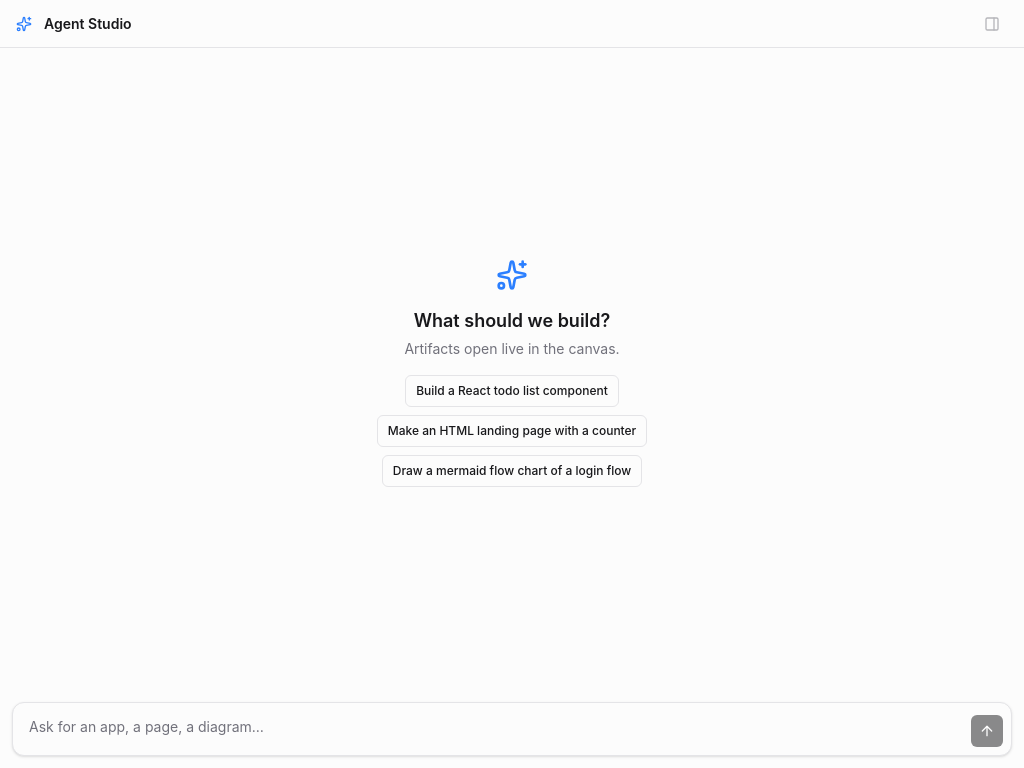
Scenario: Studio — end to end › marks an artifact whose deltas were lost as failed in chat and canvas
The width and height of the screenshot is (1024, 768).
Type "html page" into the text box named "Message" at {"x": 492, "y": 729}, box [21, 711, 963, 747]
Then press Enter
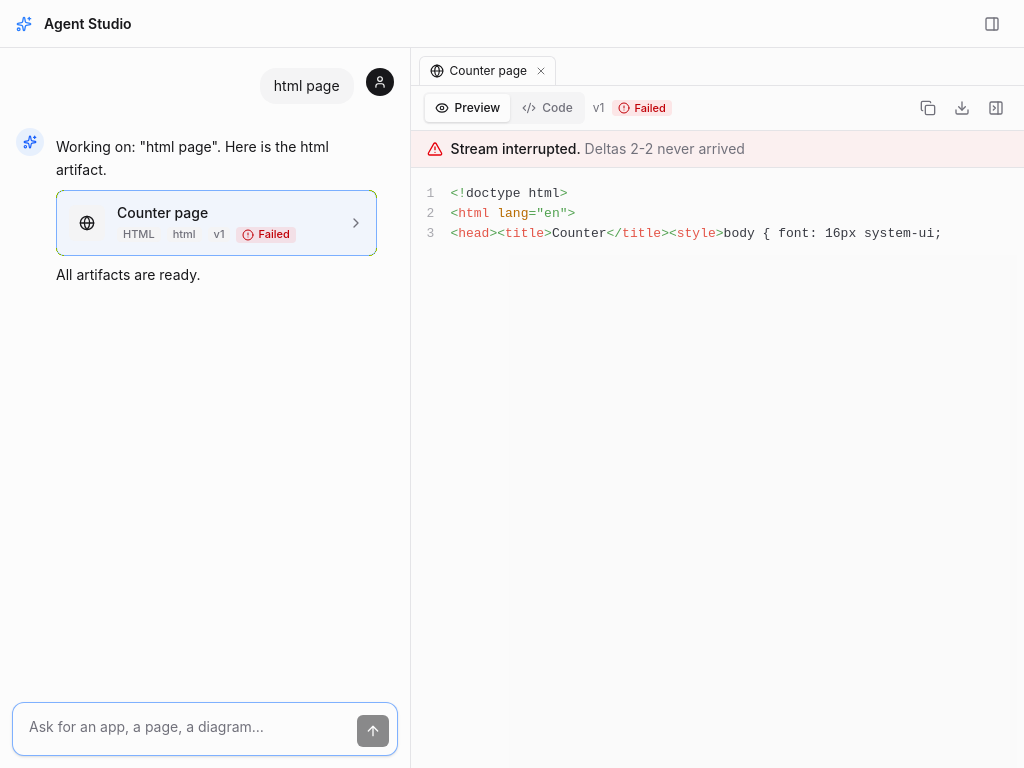
Expected: the 2nd text "Failed" is shown, [236, 226, 296, 242]
Expected: the message shows "Stream interrupted", [451, 140, 576, 157]
